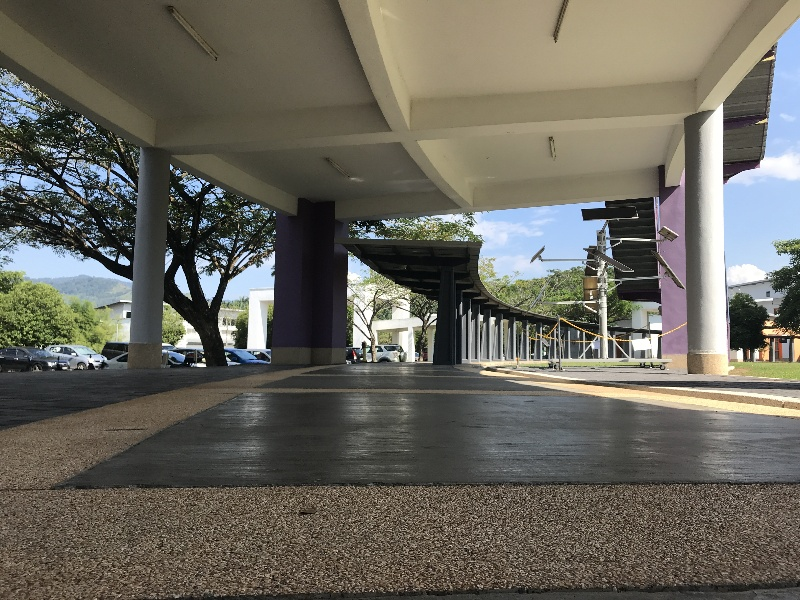pillar: (269, 188, 360, 378), (667, 110, 732, 374), (124, 143, 169, 370), (432, 266, 456, 367)
